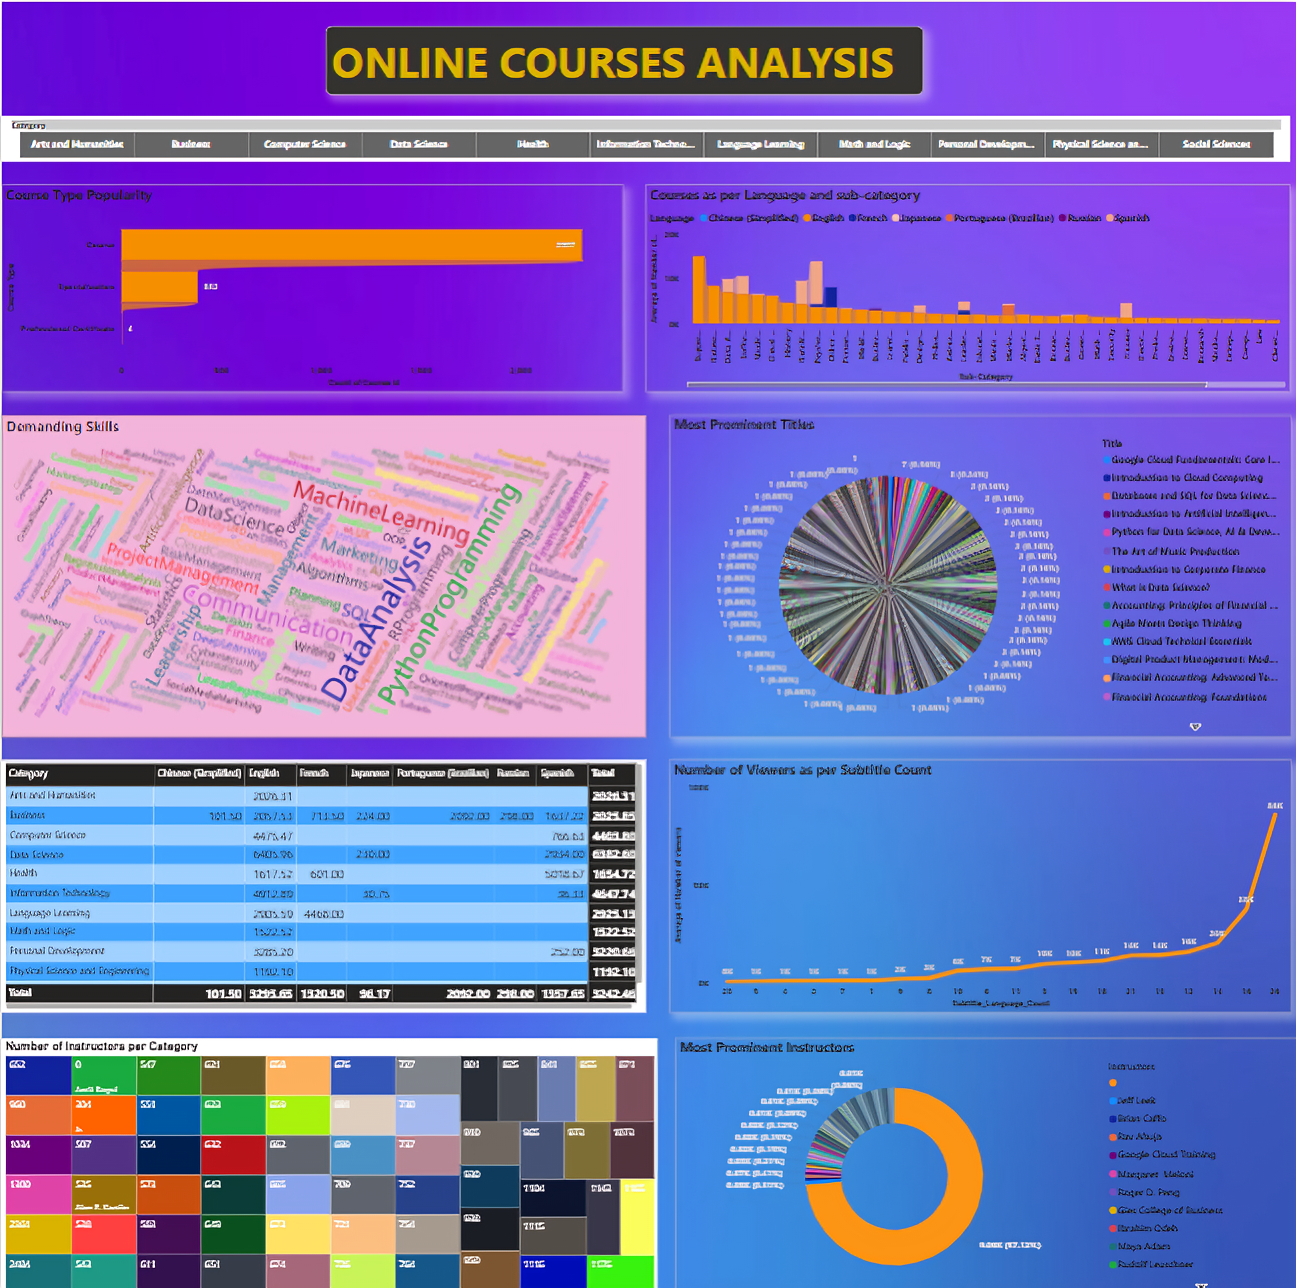

What the dashboard file says about the page in this screenshot:
{"tool":"powerbi","page":{"name":"Page 1","canvas":[1800,1800],"ordinal":0},"visuals":[{"type":"textbox","box":[448,32,832,96],"z":0},{"type":"slicer","fields":{"Values":["Online_Courses.Category"]},"box":[0,160,1792,64],"z":1000},{"type":"barChart","title":"Course Type Popularity","fields":{"Category":["Online_Courses.Course Type"],"Y":["Online_Courses.Course id"]},"box":[0,256,864,288],"z":2000},{"type":"columnChart","title":"Courses as per Language and sub-category","fields":{"Category":["Online_Courses.Sub-Category"],"Y":["Online_Courses.Number of viewers"],"Series":["Online_Courses.Language"]},"box":[896,256,896,288],"z":3000},{"type":"WordCloud1447959067750","title":"Demanding Skills","fields":{"Category":["Online_Courses.Skills"]},"box":[0,576,896,448],"z":4000},{"type":"pieChart","title":"Most Prominent Titles","fields":{"Y":["Online_Courses.Course id"],"Category":["Online_Courses.Title"]},"box":[928,576,864,448],"z":5000},{"type":"pivotTable","fields":{"Rows":["Online_Courses.Category"],"Values":["Online_Courses.Number of viewers"],"Columns":["Online_Courses.Language"]},"box":[0,1056,896,352],"z":6000},{"type":"lineChart","title":"Number of Viewers as per Subtitle Count","fields":{"Category":["Online_Courses.Subtitle_Language_Count"],"Y":["Online_Courses.Number of viewers"]},"box":[928,1056,864,352],"z":7000},{"type":"treemap","title":"Number of Instructors per Category","fields":{"Group":["Teachers.Course id"],"Details":["Teachers.Instructors"],"Values":["Teachers.Rating"]},"box":[0,1440,912,360],"z":7001},{"type":"donutChart","title":"Most Prominent Instructors","fields":{"Category":["Teachers.Instructors"],"Y":["Teachers.Rating"]},"box":[936,1440,864,360],"z":7002}]}

Visuals, with their boxes in screenshot pixels (x1, y1, x2, y2), scaled from the page's 1800x1800 canvas onto the 1296x1288 screenshot:
textbox: (x1=323, y1=23, x2=922, y2=92)
slicer - Online_Courses.Category: (x1=0, y1=114, x2=1290, y2=160)
"Course Type Popularity" barChart: (x1=0, y1=183, x2=622, y2=389)
"Courses as per Language and sub-category" columnChart: (x1=645, y1=183, x2=1290, y2=389)
"Demanding Skills" WordCloud1447959067750: (x1=0, y1=412, x2=645, y2=733)
"Most Prominent Titles" pieChart: (x1=668, y1=412, x2=1290, y2=733)
pivotTable - Online_Courses.Category x Online_Courses.Number of viewers: (x1=0, y1=756, x2=645, y2=1008)
"Number of Viewers as per Subtitle Count" lineChart: (x1=668, y1=756, x2=1290, y2=1008)
"Number of Instructors per Category" treemap: (x1=0, y1=1030, x2=657, y2=1287)
"Most Prominent Instructors" donutChart: (x1=674, y1=1030, x2=1295, y2=1287)
